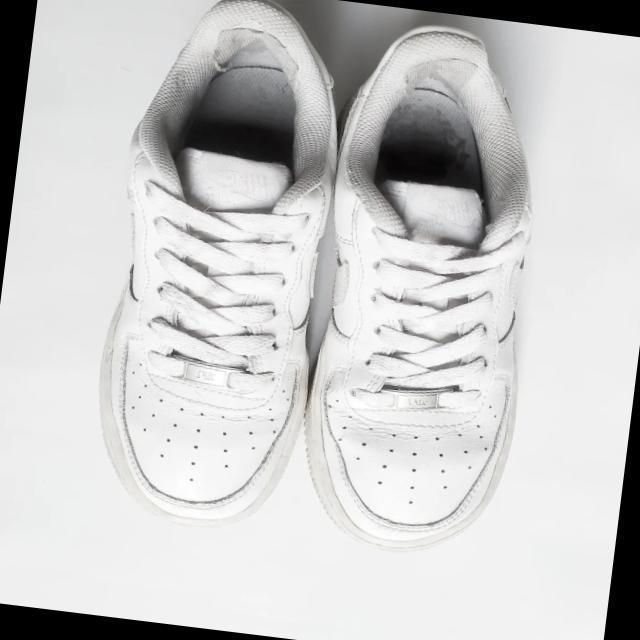nike fake air force: (288, 9, 574, 572), (76, 0, 362, 544)
